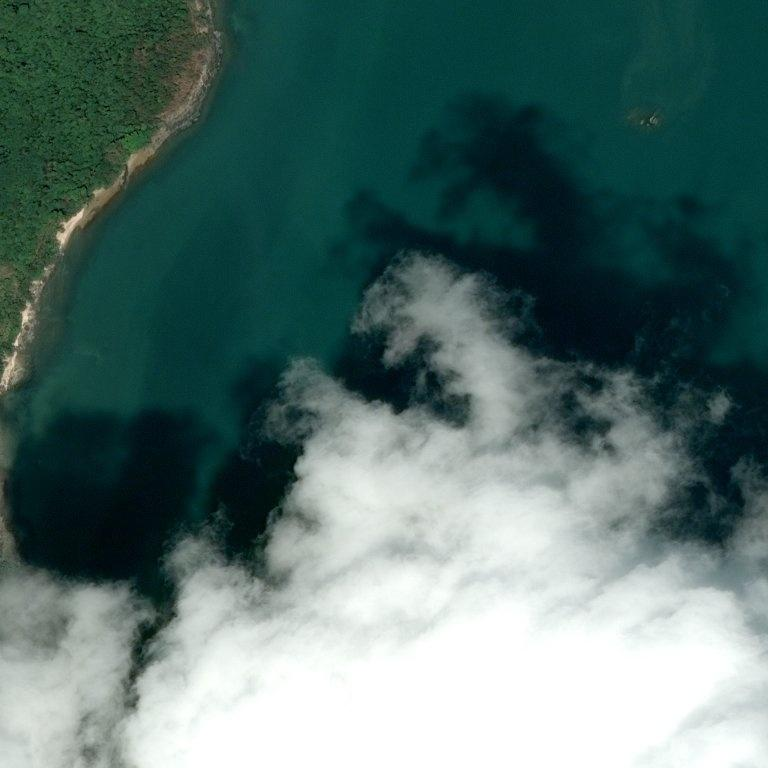ship: (235, 510, 239, 516)
